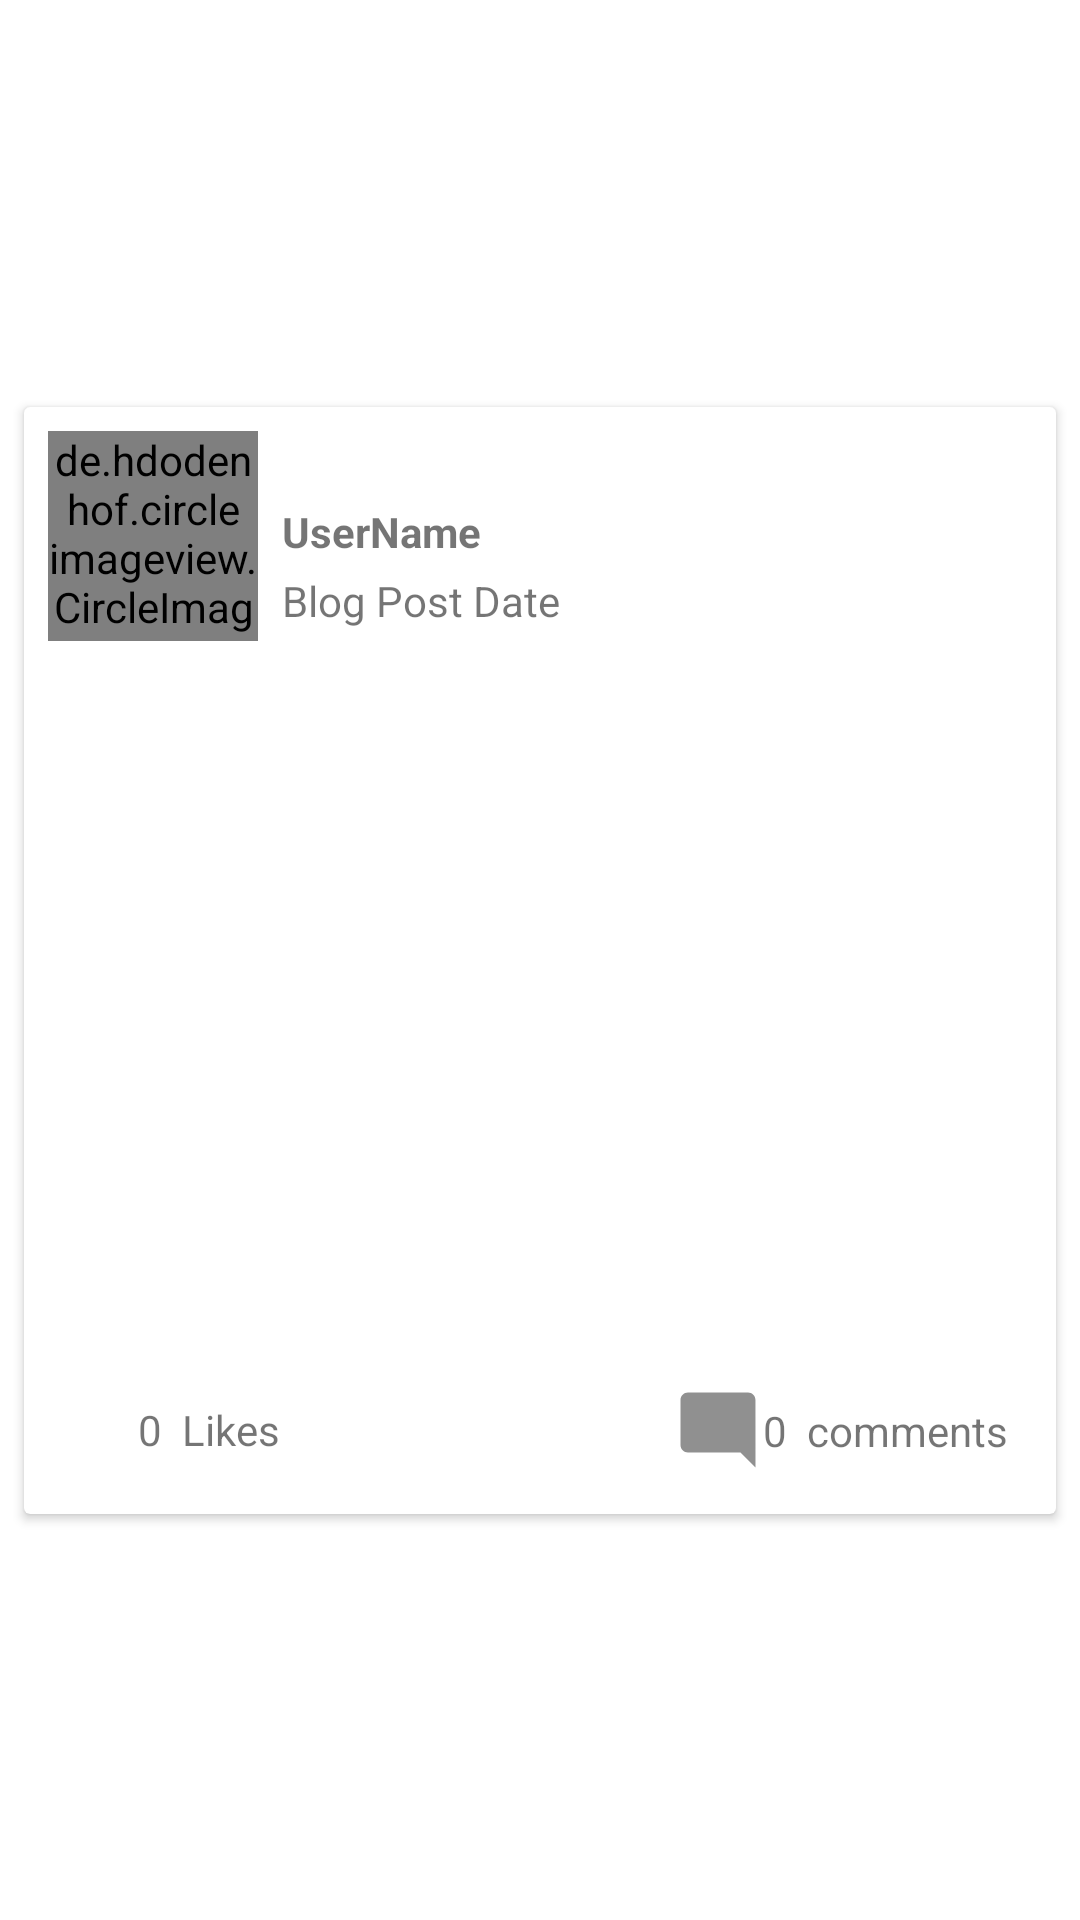

Icons on this 1080 x 1920 Android screen, each with its box as bbox(x1, y1, x2, y2):
blog list item comment: bbox(680, 1392, 756, 1467)
